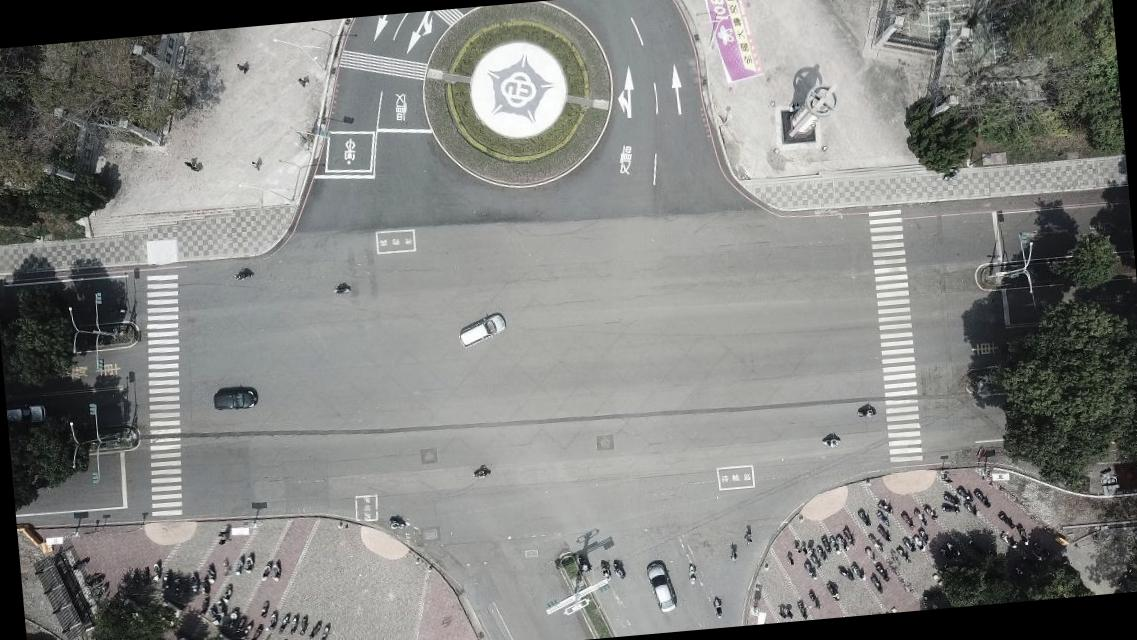vehicle: (643, 557, 677, 615), (455, 312, 507, 348), (208, 388, 258, 412), (7, 402, 49, 426)
